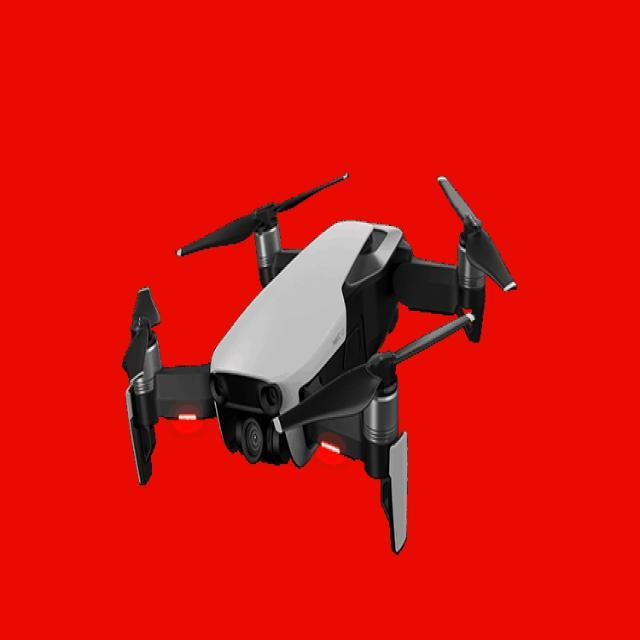drones: (109, 156, 532, 585)
